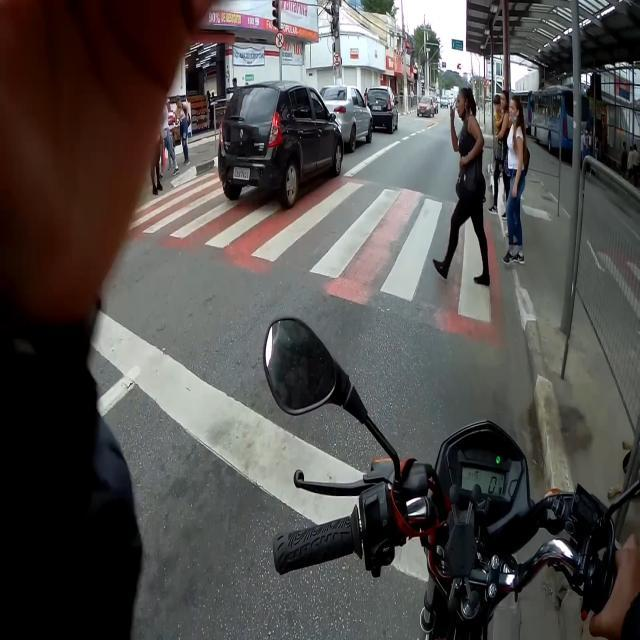Placa_mercosul_carro: (233, 167, 250, 180)
